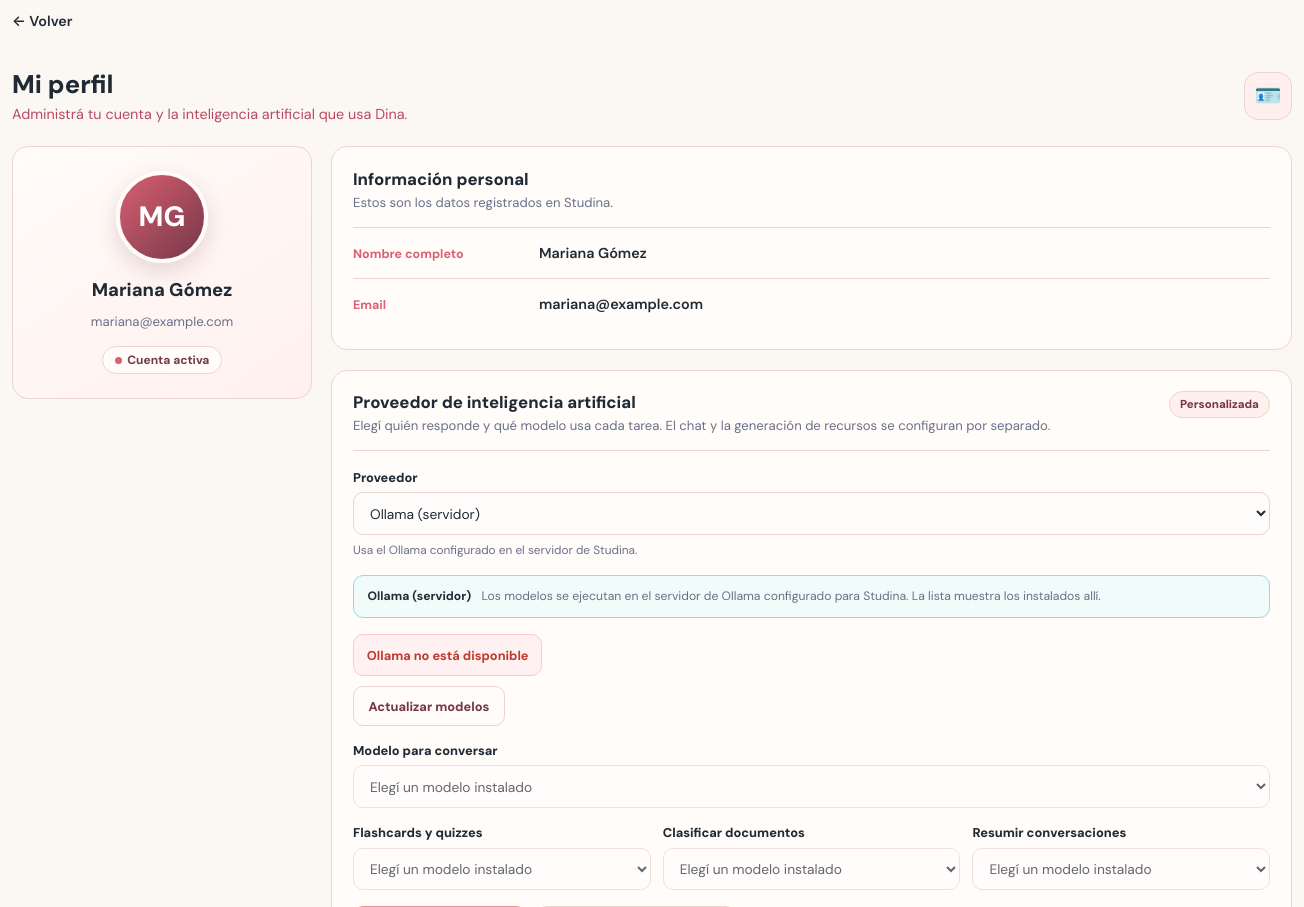
Test: ProfilePage AI settings › permite reintentar cuando Ollama no está disponible
Expected: the message reads "Ollama no está disponible", x1=367 y1=646 x2=529 y2=664
Click the button "Actualizar modelos".
click(429, 706)  # box x1=353 y1=686 x2=505 y2=726
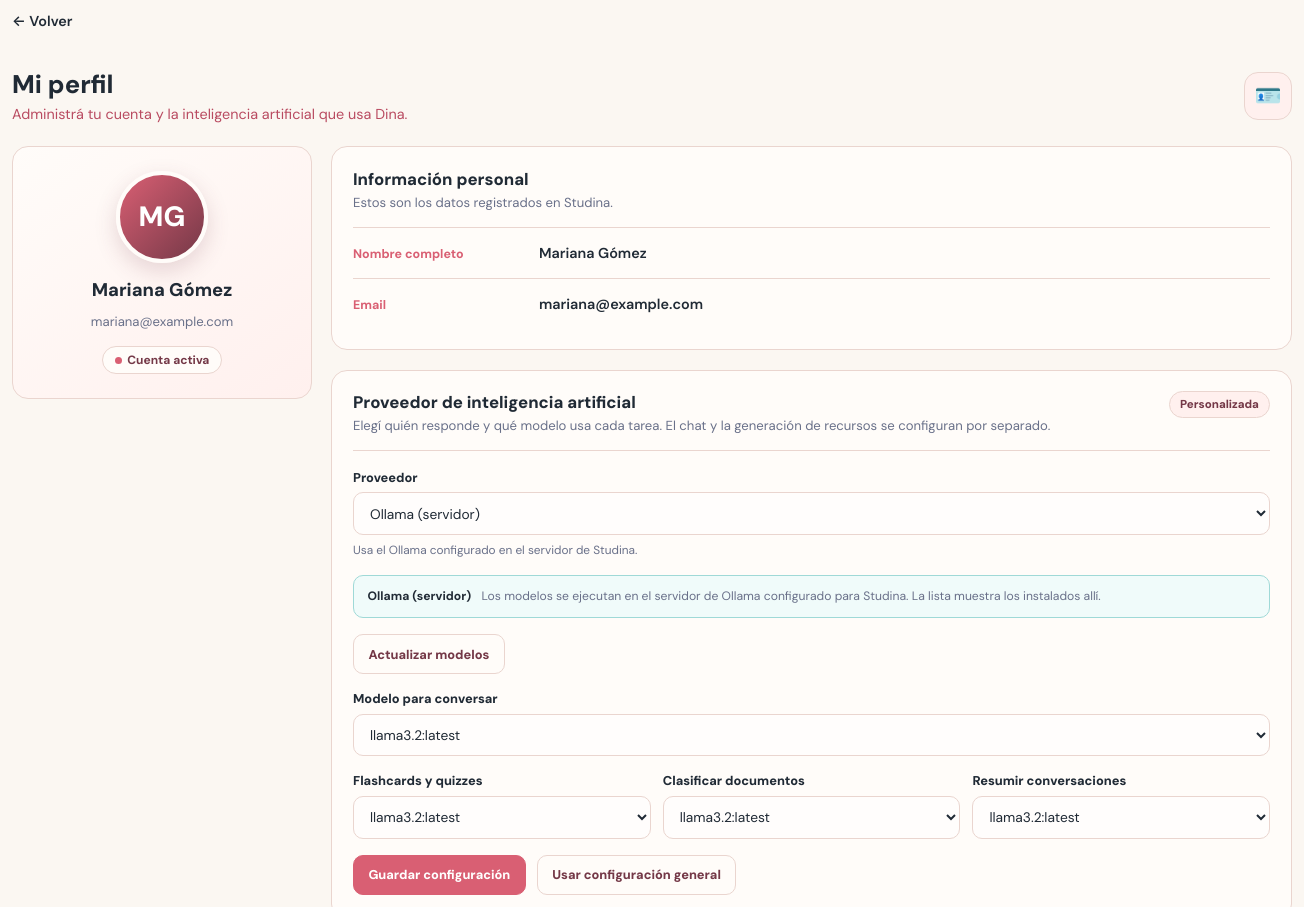
Result: the dropdown labelled "Modelo para conversar" shows "llama3.2:latest" at x1=353 y1=714 x2=1270 y2=756
Result: the message "Ollama no está disponible" is gone
Result: the button "Guardar configuración" is enabled at x1=353 y1=855 x2=526 y2=895
